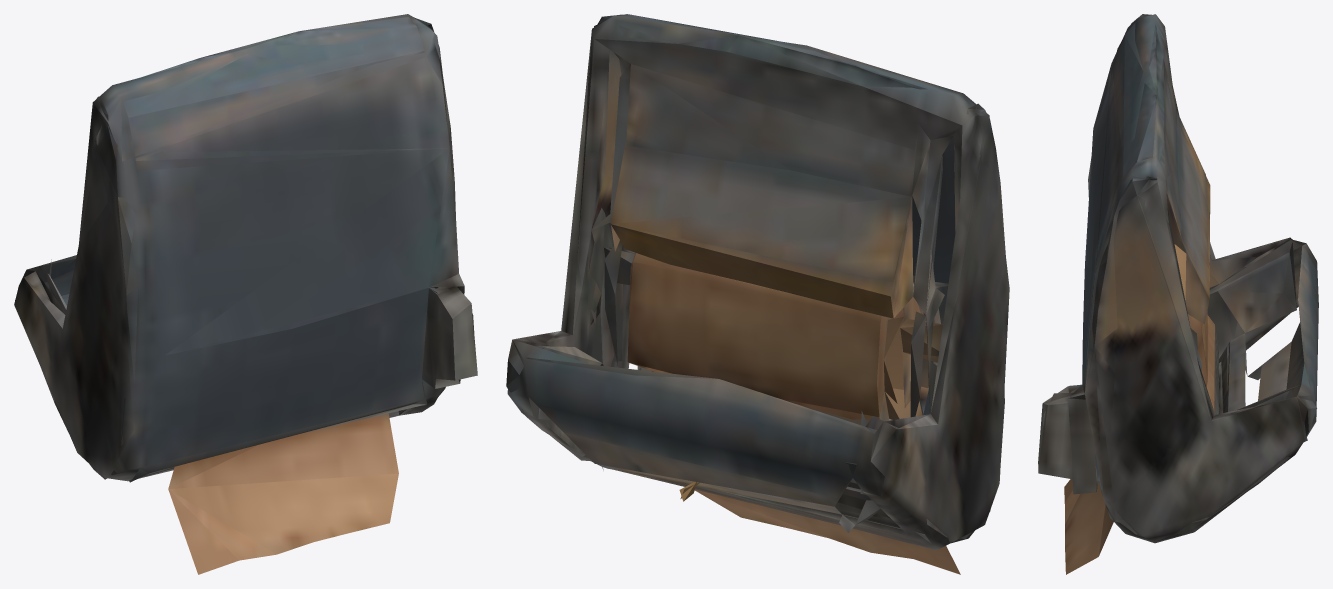
Rendered from p7-paper-towel-dispenser.glb.
3 views of the same model, side by side, from view 1: azimuth 30°, elevation 25°; view 2: azimuth 150°, elevation 25°; view 3: azimuth 270°, elevation 25° (orthographic). The views are drawn at different scales.
Parts seen in each view (by area): view 1: p7-paper-towel-dispenser; view 2: p7-paper-towel-dispenser; view 3: p7-paper-towel-dispenser.
Boxes of the visible parts, bbox=[...] form: p7-paper-towel-dispenser: bbox=[14, 14, 477, 574]; p7-paper-towel-dispenser: bbox=[506, 14, 1009, 574]; p7-paper-towel-dispenser: bbox=[1038, 14, 1318, 574].
Size of the model in its own units: 0.3 by 0.4 by 0.22.
1 material, 1 textured.
